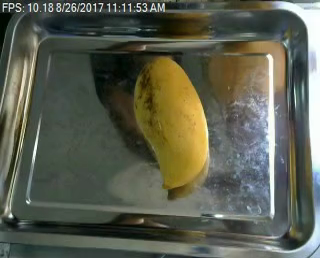Mango: (130, 50, 213, 191)
